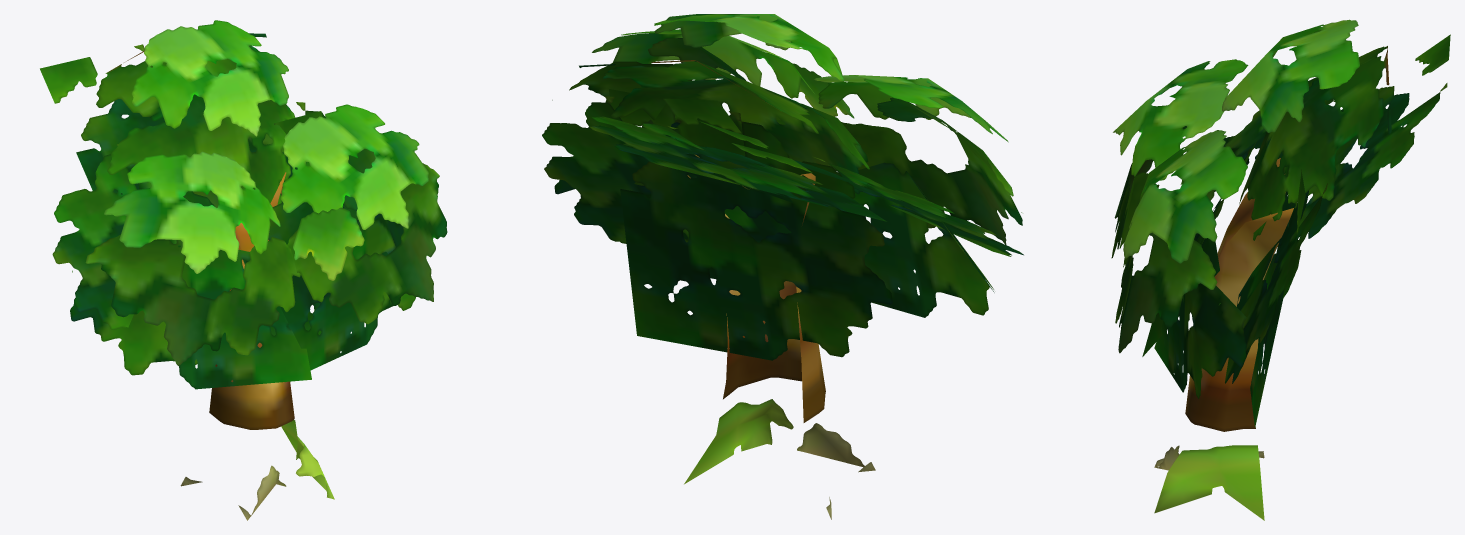
Rendered from fg_treeA_2.dae.
3 renders of one model, left to right at view 1: azimuth 30°, elevation 25°; view 2: azimuth 150°, elevation 25°; view 3: azimuth 270°, elevation 25°, orthographic. The views are drawn at different scales.
Visible parts, largest first — view 1: vsn_mesh_0_; view 2: vsn_mesh_0_; view 3: vsn_mesh_0_.
Part boxes in pixels (x1,y1,x2,y2): vsn_mesh_0_: [40, 20, 447, 520]; vsn_mesh_0_: [542, 14, 1023, 519]; vsn_mesh_0_: [1111, 19, 1450, 520].
Size of the model in its own units: 52.02 by 53.23 by 37.82.
